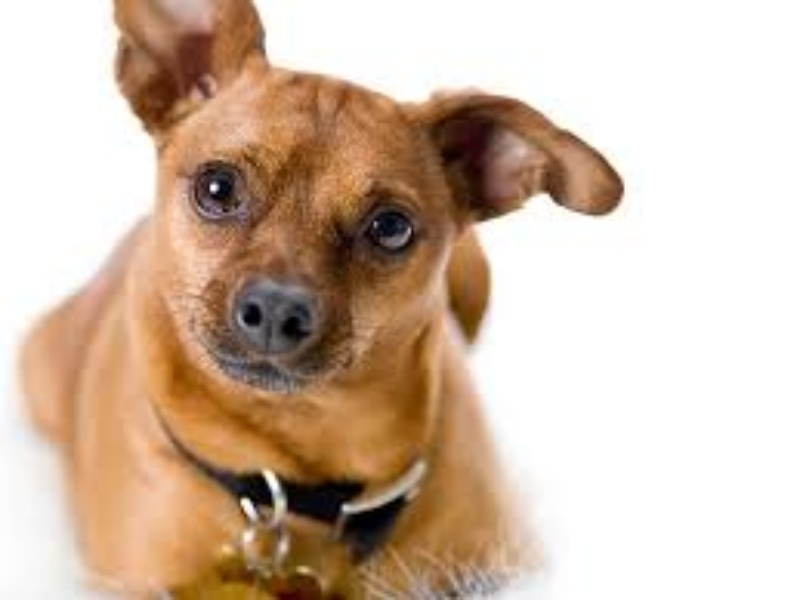dog: (77, 2, 637, 600)
